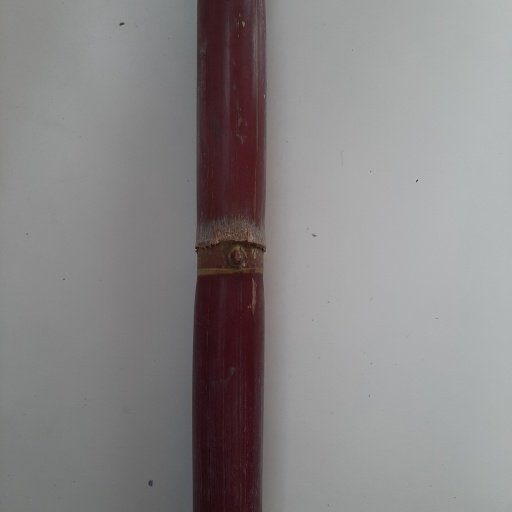Bud: (229, 245, 249, 269)
